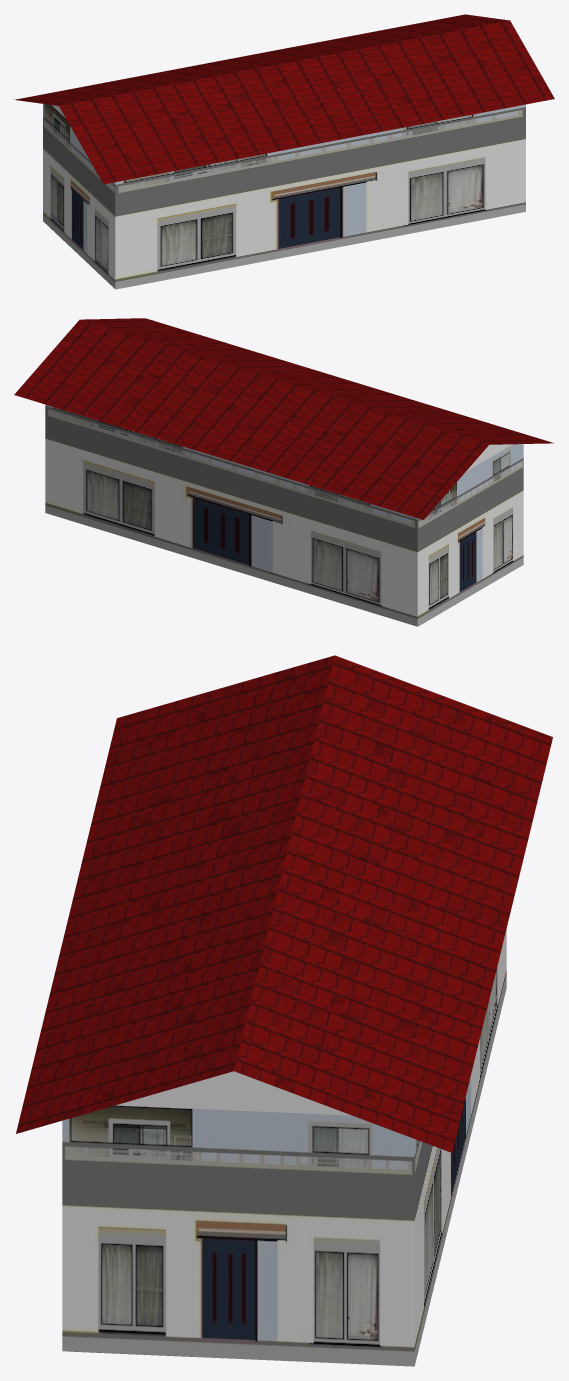
The picture shows the model from 3 angles, top to bottom: view 1: azimuth 30°, elevation 25°; view 2: azimuth 150°, elevation 25°; view 3: azimuth 270°, elevation 25°; orthographic projection. The views are drawn at different scales.
Parts seen in each view (by area): view 1: CityEngineMaterial_7_m, CityEngineMaterial_17_m; view 2: CityEngineMaterial_7_m, CityEngineMaterial_17_m; view 3: CityEngineMaterial_17_m, CityEngineMaterial_7_m, CityEngineMaterial_3_m.
Part boxes in pixels (bbox=[...]): CityEngineMaterial_7_m: bbox=[43, 104, 525, 289]; CityEngineMaterial_17_m: bbox=[14, 14, 554, 184]; CityEngineMaterial_7_m: bbox=[45, 404, 523, 626]; CityEngineMaterial_17_m: bbox=[14, 318, 553, 519]; CityEngineMaterial_17_m: bbox=[16, 655, 552, 1152]; CityEngineMaterial_7_m: bbox=[62, 929, 506, 1366]; CityEngineMaterial_3_m: bbox=[116, 1071, 351, 1115].
Size of the model in its own units: 22.92 by 7.54 by 11.97.
